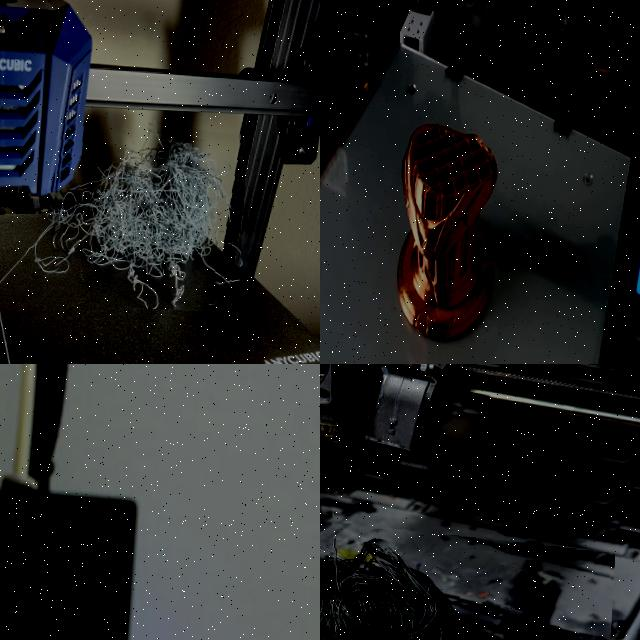spaghetti: (44, 114, 248, 314), (320, 508, 616, 640)
